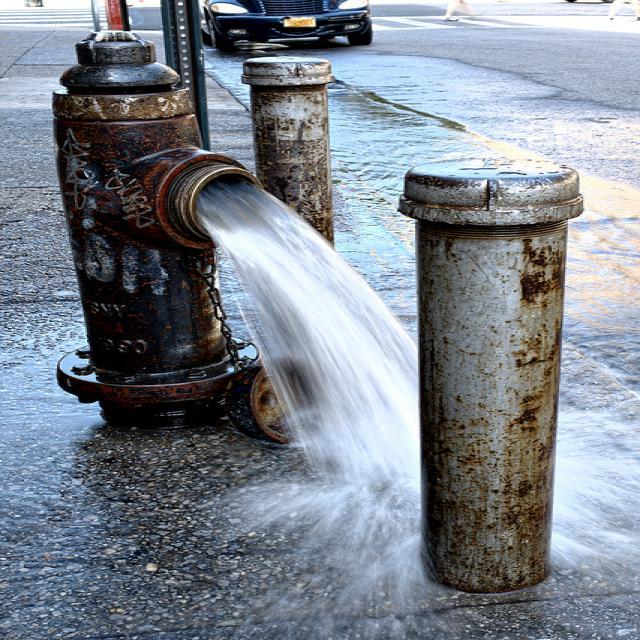fire_hydrant: (50, 0, 272, 428)
